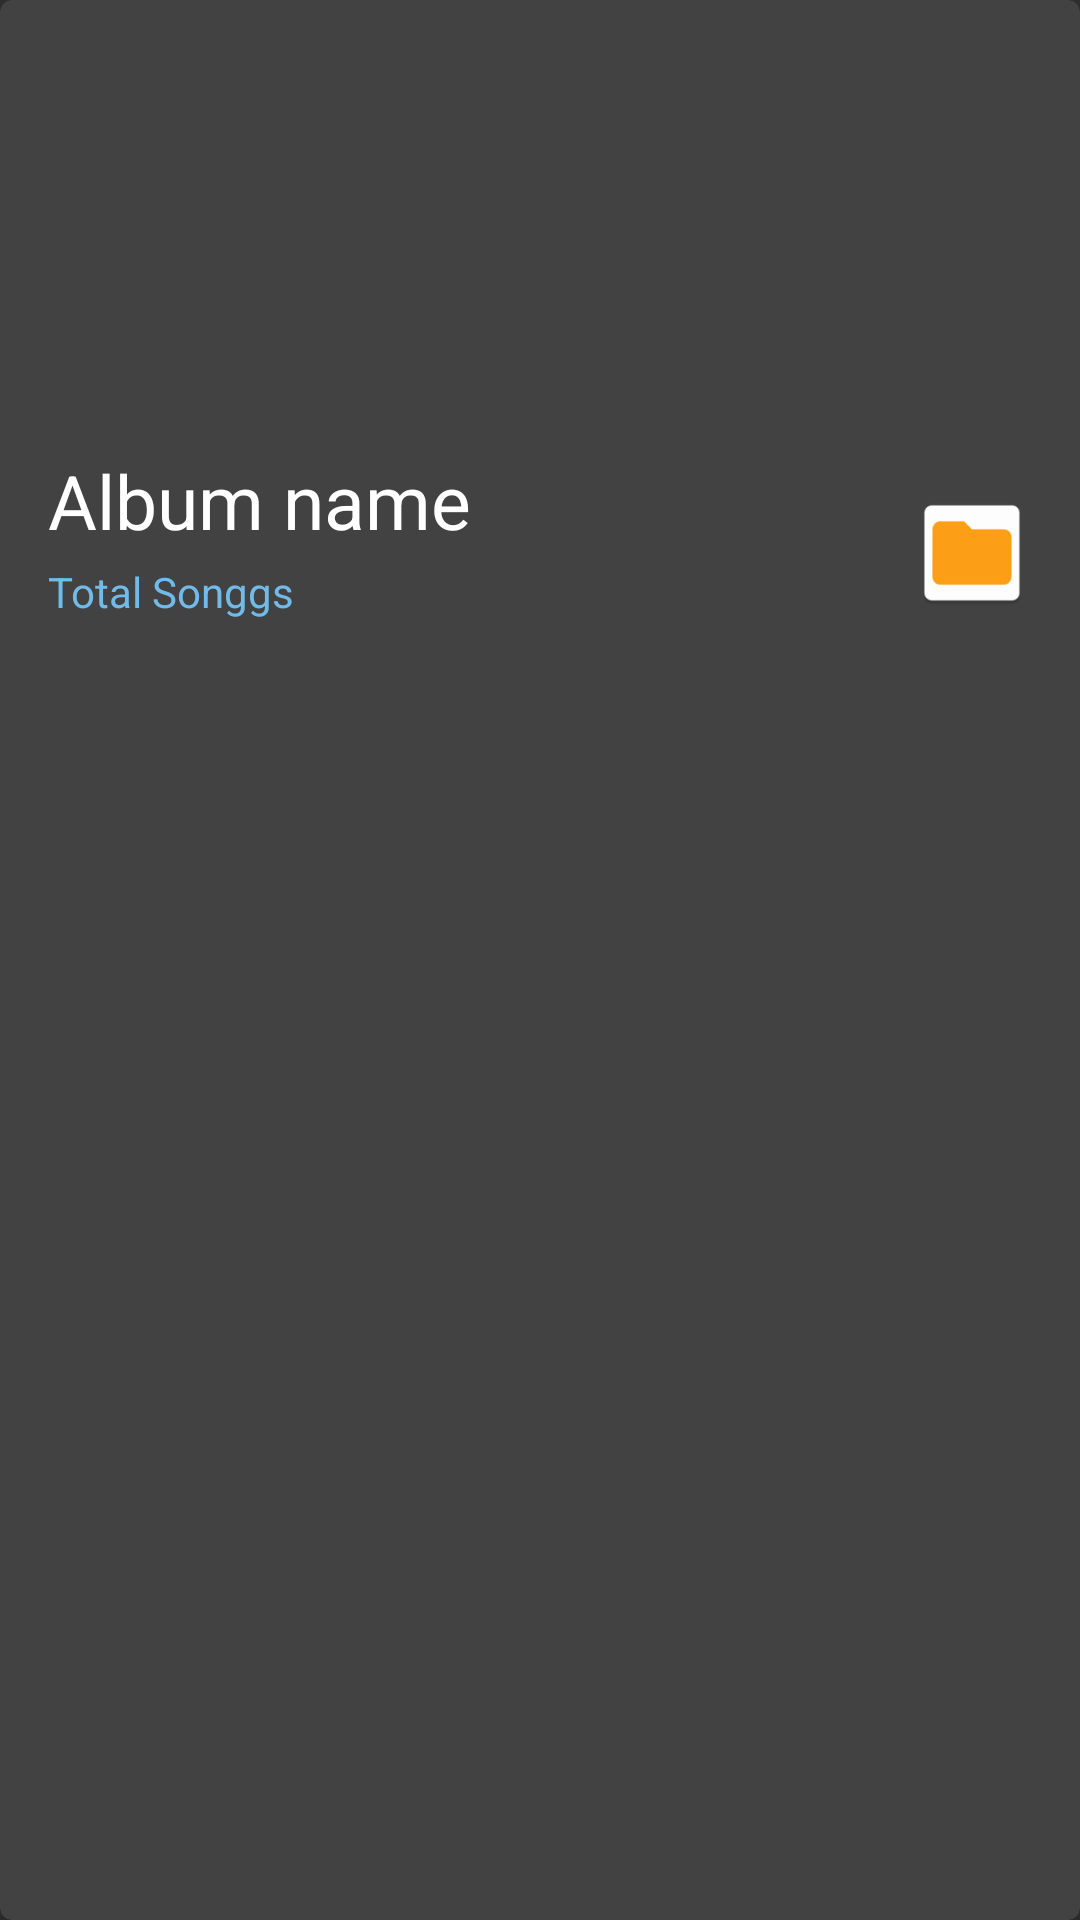

Icons on this 1080px x 1920px Android screen, each with the point to tap as [x,y]:
folder: [972,553]
